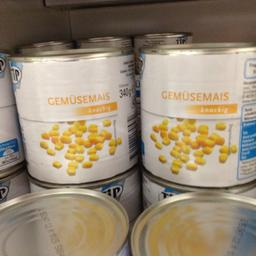corn: (8, 46, 137, 188), (136, 38, 254, 188)
